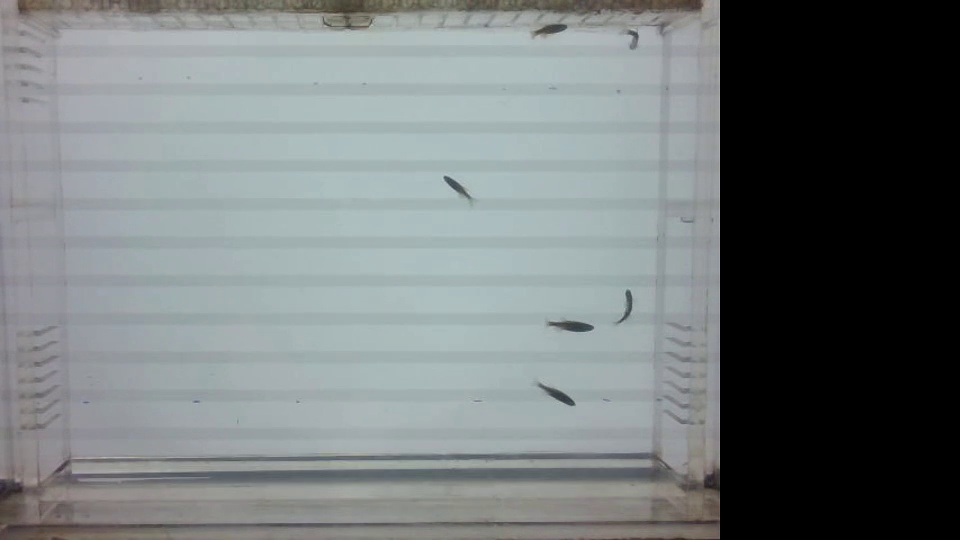fish: (530, 376, 584, 412), (432, 172, 476, 204), (608, 284, 636, 329), (536, 312, 598, 332), (528, 17, 570, 46), (617, 24, 644, 58)
